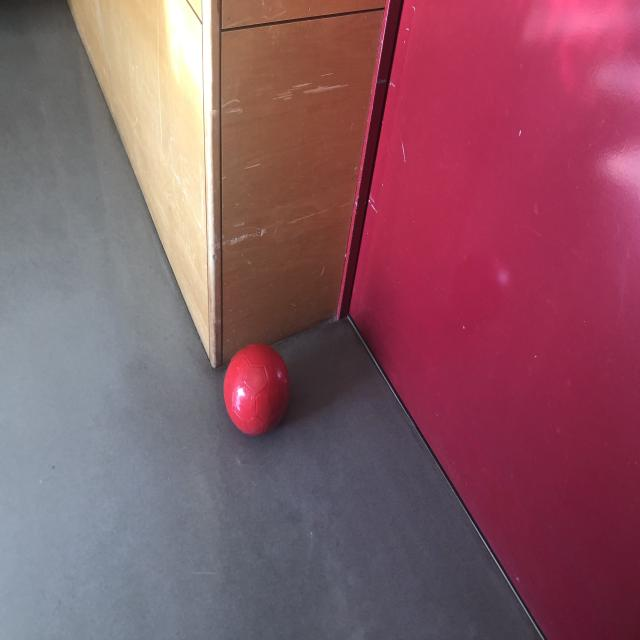red_ball: (223, 345, 290, 437)
